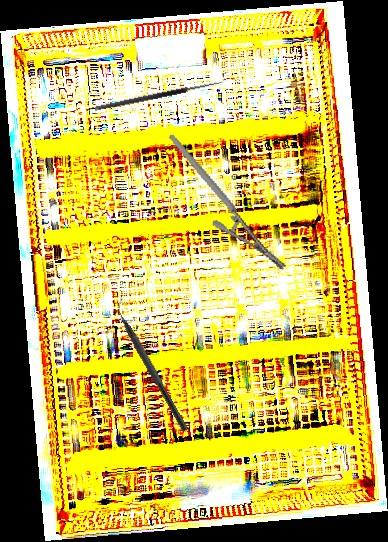Chopper: (107, 293, 198, 434)
Hook Surgical: (93, 72, 226, 112)
Needle Holder: (168, 112, 288, 292)
